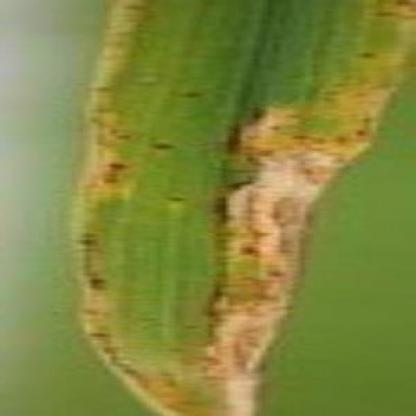Blight: (181, 83, 407, 416)
